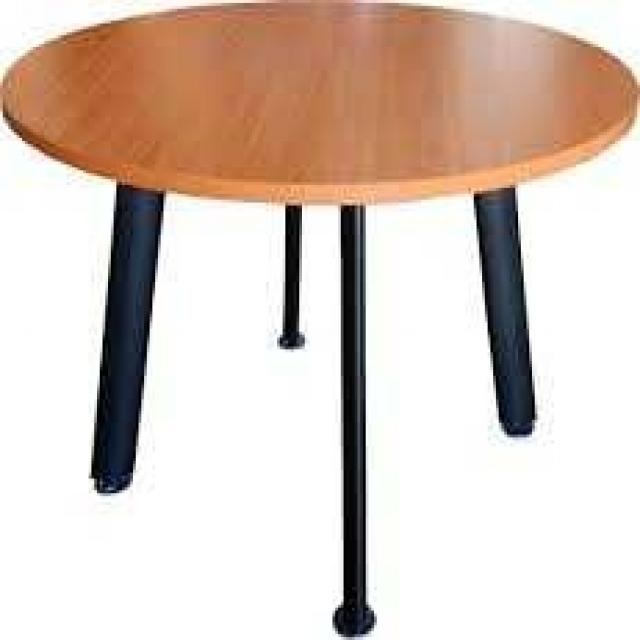table: (3, 6, 626, 613)
